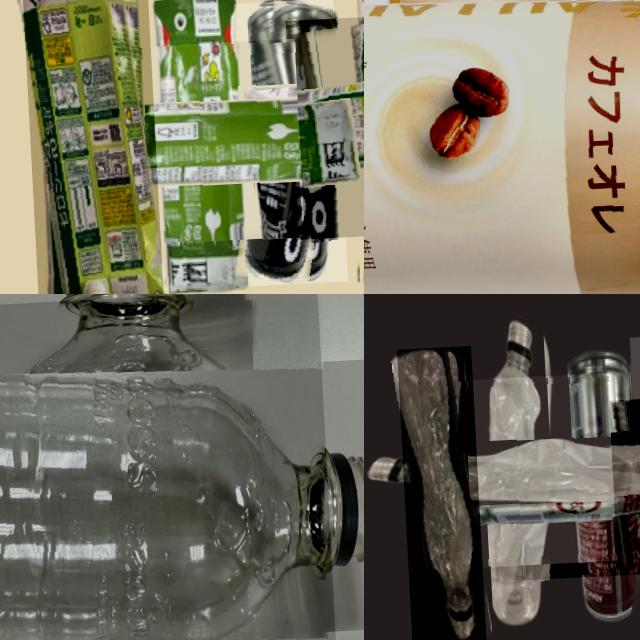Aluminium Foil: (96, 38, 304, 246), (20, 0, 164, 294), (284, 9, 364, 239)
Can: (364, 0, 640, 294), (232, 0, 347, 285), (512, 395, 640, 579)
Transparent Plastic Bottle: (0, 294, 338, 640), (418, 372, 616, 570), (396, 345, 486, 640)
